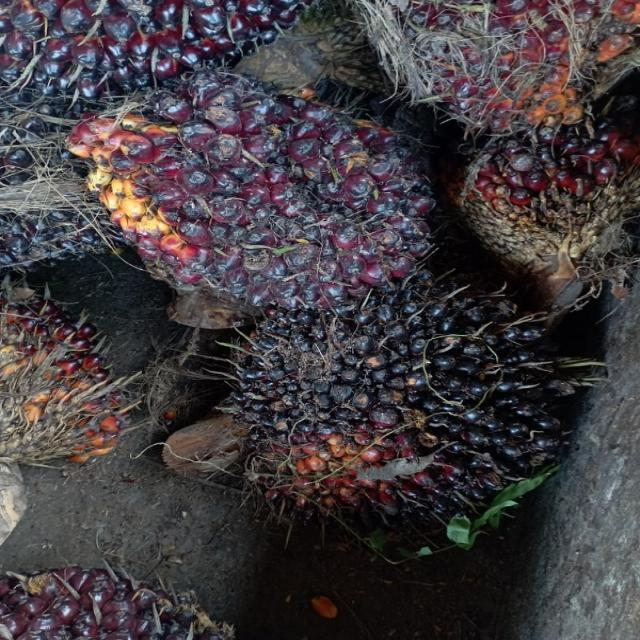fraksi 00: (180, 286, 614, 610)
fraksi 1: (49, 60, 486, 366)
